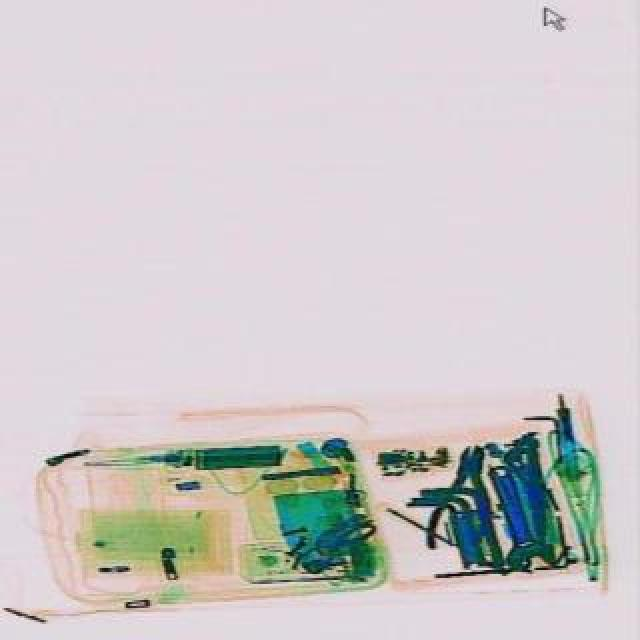scissors: (470, 456, 556, 578)
wrench: (422, 440, 500, 556)
